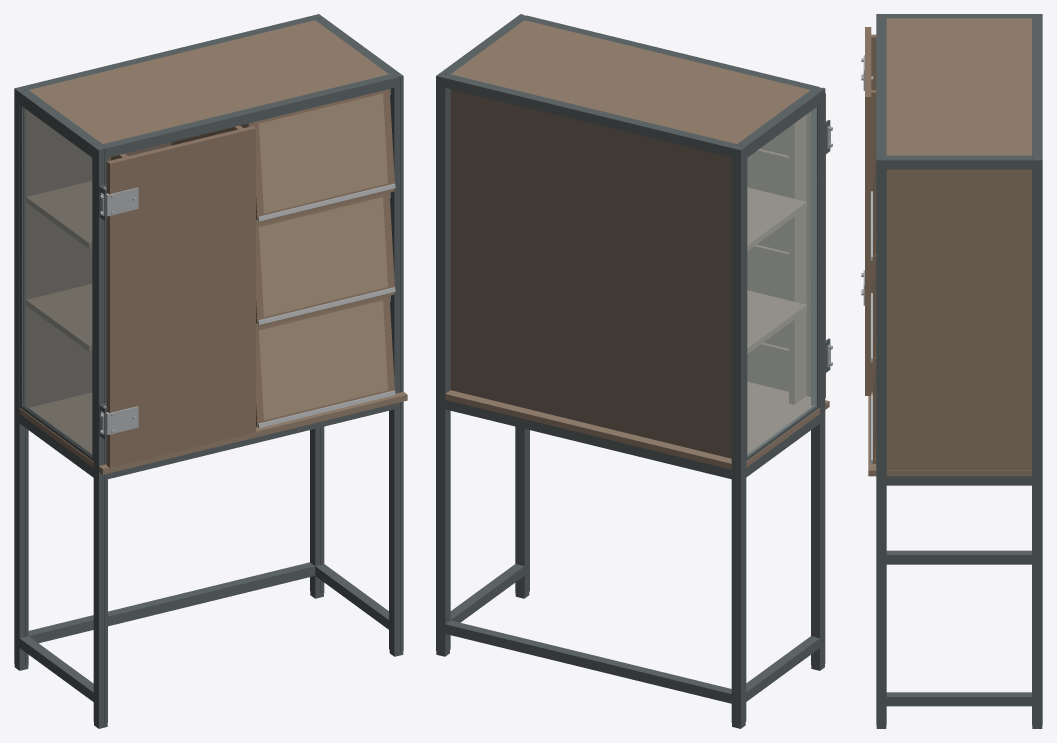
File: cabinet-closed.glb
3 views of the same model, side by side, from view 1: azimuth 30°, elevation 25°; view 2: azimuth 150°, elevation 25°; view 3: azimuth 270°, elevation 25° (orthographic).
Visible parts, largest first — view 1: Door-face-18, Left-glass-6, Top-18, Back-12, Plywood-infill-6-1, Plywood-infill-6-2, Plywood-infill-6-3, Post-4-23, Post-966-23, Post-4-470, Bottom-18, Beam-top-front (+22 smaller); view 2: Back-12, Left-glass-6, Top-18, Post-4-470, Post-966-470, Post-4-23, Door-face-18, Bottom-18, Door-inner-hinge-18, Beam-top-rear, Beam-lower-rear, Beam-body-rear (+11 smaller); view 3: Right-panel, Top-18, Post-966-23, Post-966-470, Door-face-18, Beam-lower-side-4, Beam-lower-side-966, Beam-top-side-966, Beam-top-rear, Beam-top-front, Beam-body-side-966, Bottom-18 (+3 smaller).
Part boxes in pixels (bbox=[...]): Door-face-18: bbox=[106, 126, 255, 467]; Left-glass-6: bbox=[22, 107, 92, 455]; Top-18: bbox=[29, 20, 388, 143]; Back-12: bbox=[25, 109, 171, 407]; Plywood-infill-6-1: bbox=[259, 300, 387, 420]; Plywood-infill-6-2: bbox=[259, 197, 387, 316]; Plywood-infill-6-3: bbox=[259, 93, 387, 213]; Post-4-23: bbox=[93, 144, 107, 725]; Post-966-23: bbox=[389, 72, 403, 652]; Post-4-470: bbox=[14, 86, 28, 667]; Bottom-18: bbox=[19, 392, 407, 474]; Beam-top-front: bbox=[103, 74, 394, 157]; Back-12: bbox=[450, 89, 731, 458]; Left-glass-6: bbox=[747, 107, 816, 456]; Top-18: bbox=[451, 20, 810, 143]; Post-4-470: bbox=[731, 144, 746, 725]; Post-966-470: bbox=[436, 72, 450, 652]; Post-4-23: bbox=[811, 86, 825, 666]; Door-face-18: bbox=[747, 93, 825, 397]; Bottom-18: bbox=[445, 382, 829, 469]; Door-inner-hinge-18: bbox=[789, 115, 806, 404]; Beam-top-rear: bbox=[445, 74, 736, 157]; Beam-lower-rear: bbox=[445, 620, 731, 703]; Beam-body-rear: bbox=[445, 400, 731, 479]; Right-panel: bbox=[886, 169, 1031, 470]; Top-18: bbox=[886, 18, 1031, 155]; Post-966-23: bbox=[876, 155, 886, 725]; Post-966-470: bbox=[1032, 155, 1042, 725]; Door-face-18: bbox=[865, 27, 871, 395]; Beam-lower-side-4: bbox=[886, 550, 1031, 564]; Beam-lower-side-966: bbox=[886, 692, 1031, 706]; Beam-top-side-966: bbox=[886, 155, 1031, 169]; Beam-top-rear: bbox=[1032, 18, 1042, 155]; Beam-top-front: bbox=[876, 18, 886, 155]; Beam-body-side-966: bbox=[886, 476, 1031, 485]; Bottom-18: bbox=[868, 391, 1031, 476].
Bounding box in the file's own units: 1 × 1.8 × 0.5195.
